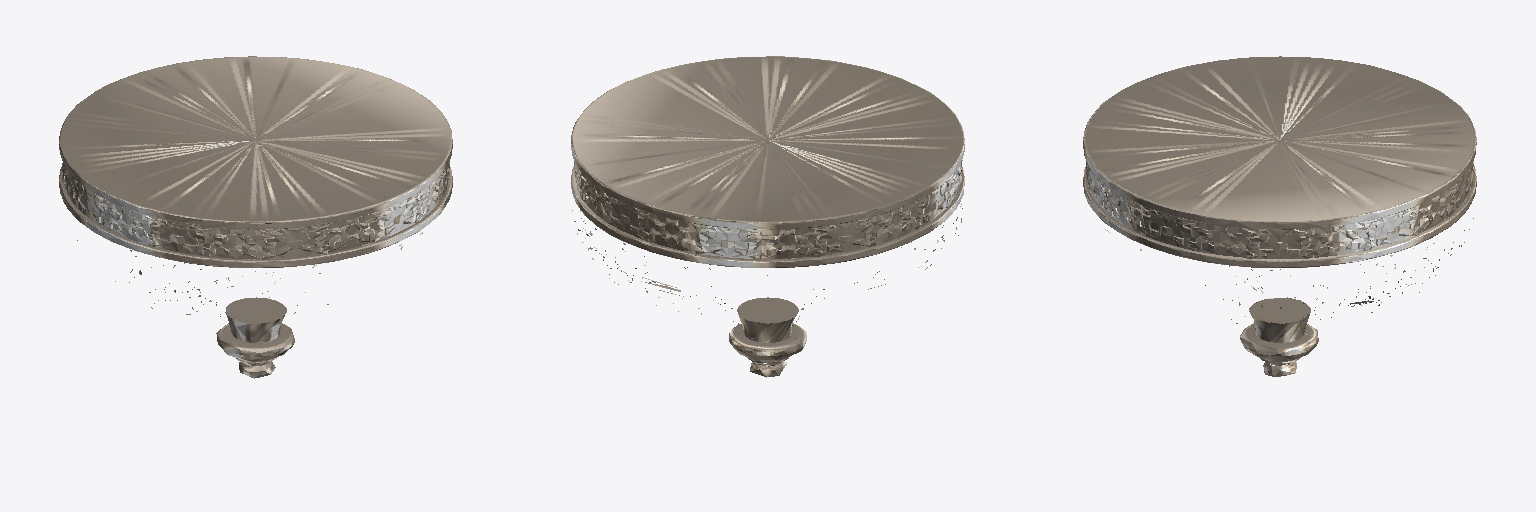
3 renders of one model, left to right at view 1: azimuth 30°, elevation 25°; view 2: azimuth 150°, elevation 25°; view 3: azimuth 270°, elevation 25°, orthographic.
Parts seen in each view (by area): view 1: solid_001; view 2: solid_001; view 3: solid_001.
Boxes of the visible parts, box(x1,y1,x2,y2) form: solid_001: box(59, 56, 452, 378); solid_001: box(571, 56, 964, 377); solid_001: box(1083, 56, 1476, 376).
Bounding box in the file's own units: 1.73 × 1.13 × 1.73.
1 materials, 1 textured.